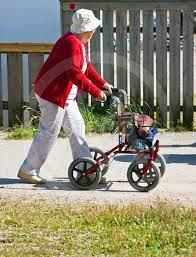walking_frame: (17, 9, 166, 192)
